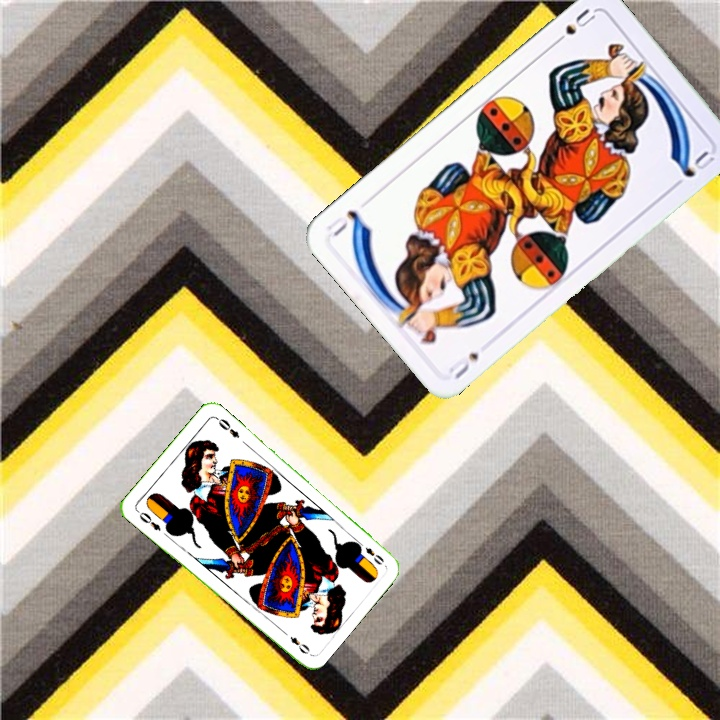EO: (353, 537, 386, 568), (133, 506, 163, 534)
SU: (548, 4, 598, 49), (445, 348, 482, 382)
